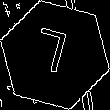L_S: (34, 27, 76, 83)
